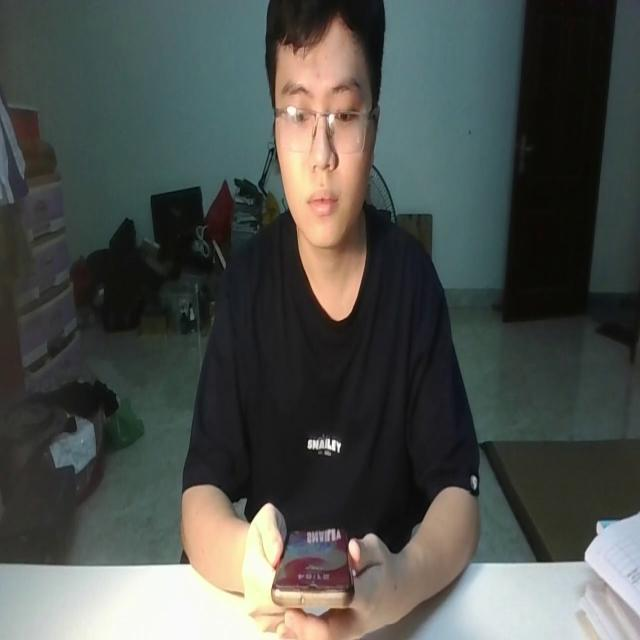phone: (268, 514, 354, 608)
student: (181, 0, 479, 640)
